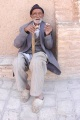male: (30, 4, 45, 23)
